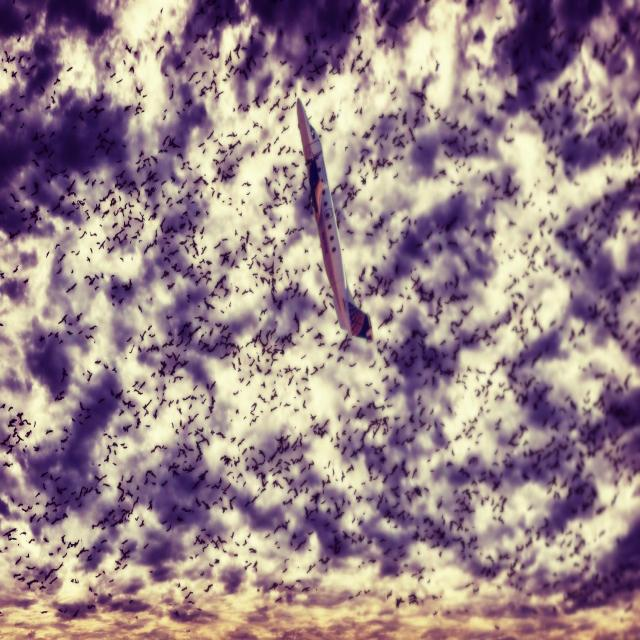airplane: (296, 96, 373, 342)
